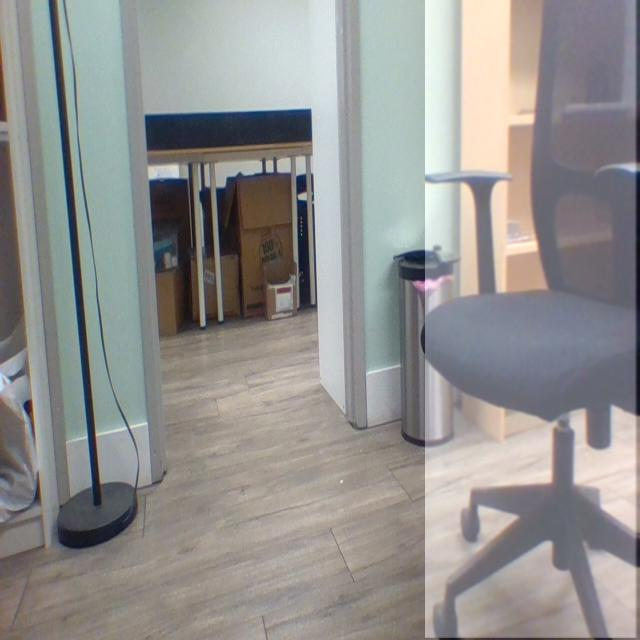black-chair: (426, 0, 640, 639)
